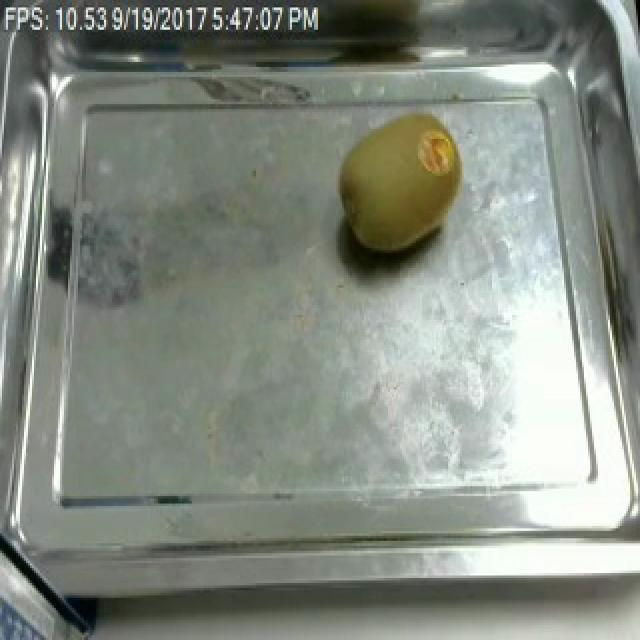Fruit: (332, 97, 476, 265)
